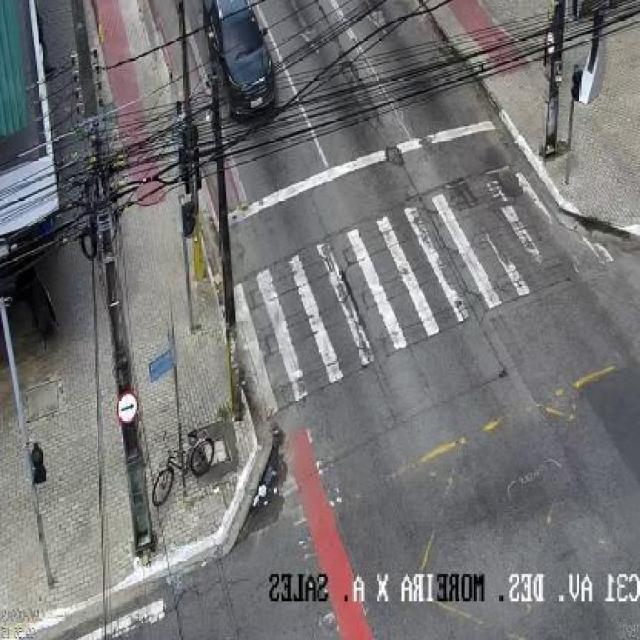Car: (201, 0, 282, 121)
Cycle: (150, 429, 217, 508)
